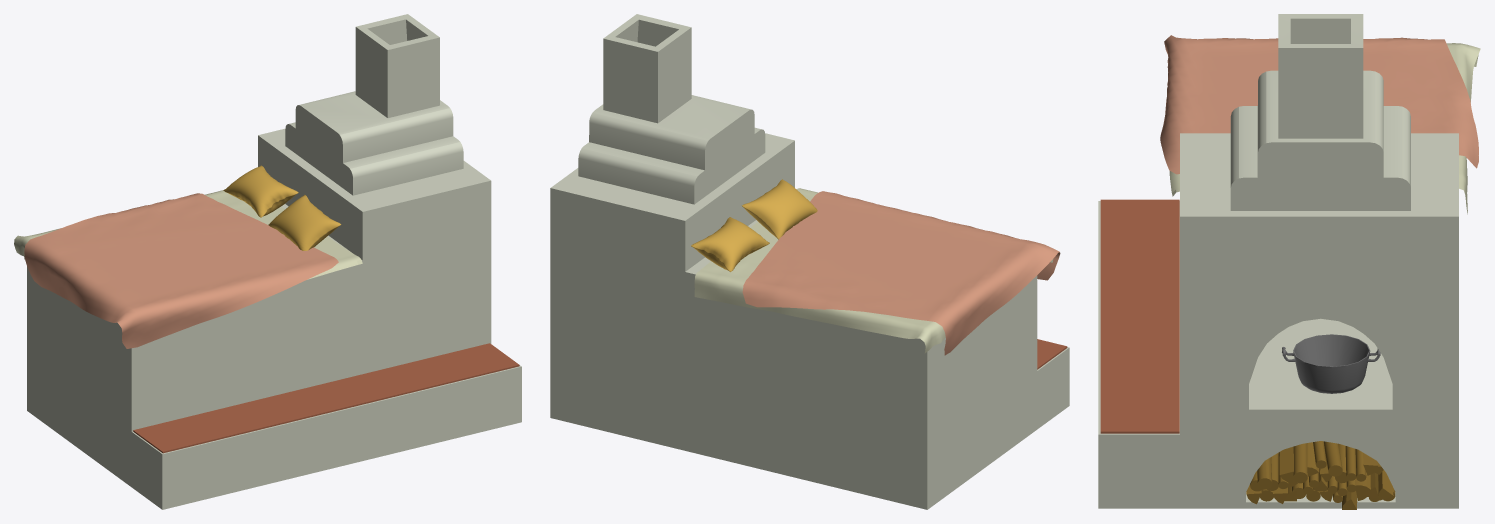
The model's file is Stove.fbx.
3 views of the same model, side by side, from view 1: azimuth 30°, elevation 25°; view 2: azimuth 150°, elevation 25°; view 3: azimuth 270°, elevation 25° (orthographic). The views are drawn at different scales.
Visible parts, largest first — view 1: Stove, Blanket, Step, Pilows, Bed; view 2: Stove, Blanket, Bed, Pilows; view 3: Stove, Step, Blanket, FireWood, Dish, Bed.
Boxes of the visible parts, x1=… form: Stove: x1=27, y1=14, x2=521, y2=509; Blanket: x1=24, y1=193, x2=338, y2=348; Step: x1=133, y1=343, x2=519, y2=453; Pilows: x1=223, y1=165, x2=341, y2=250; Bed: x1=14, y1=190, x2=362, y2=279; Stove: x1=550, y1=14, x2=1069, y2=509; Blanket: x1=742, y1=191, x2=1060, y2=355; Bed: x1=694, y1=188, x2=1053, y2=353; Pilows: x1=691, y1=179, x2=817, y2=271; Stove: x1=1098, y1=14, x2=1458, y2=508; Step: x1=1100, y1=199, x2=1179, y2=433; Blanket: x1=1160, y1=35, x2=1478, y2=174; FireWood: x1=1246, y1=441, x2=1395, y2=509; Dish: x1=1282, y1=334, x2=1380, y2=393; Bed: x1=1169, y1=43, x2=1480, y2=214.
Size of the model in its own units: 282 by 234 by 180.
